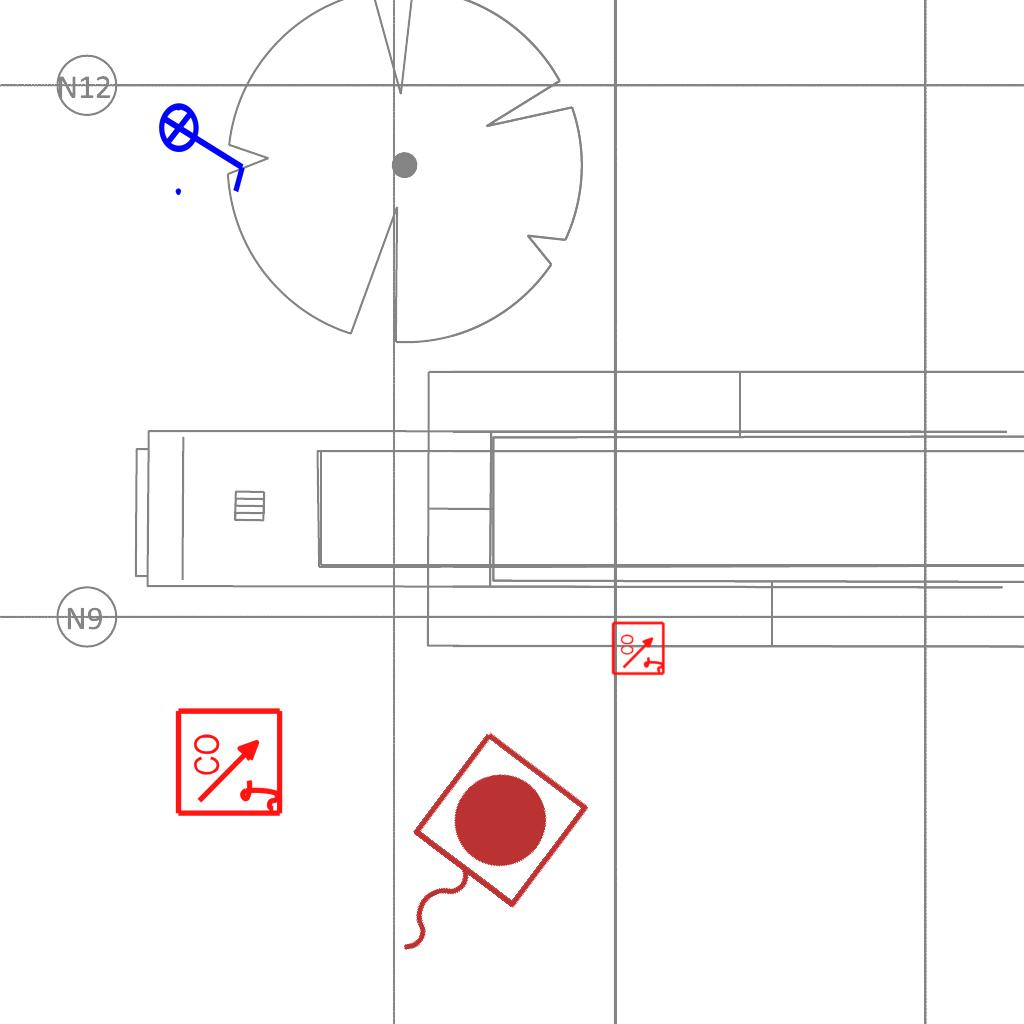Ausschalter_beleuchtet: (157, 89, 253, 201)
ROA_Rauchmelder_optisch_mit_Signalgeber_(Sockelsirene): (174, 705, 287, 818), (611, 620, 667, 676)
Zugtaster: (338, 718, 600, 1000)
